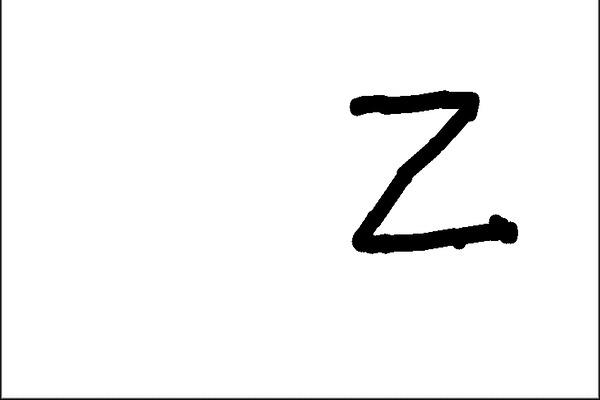Z: (334, 76, 521, 263)
